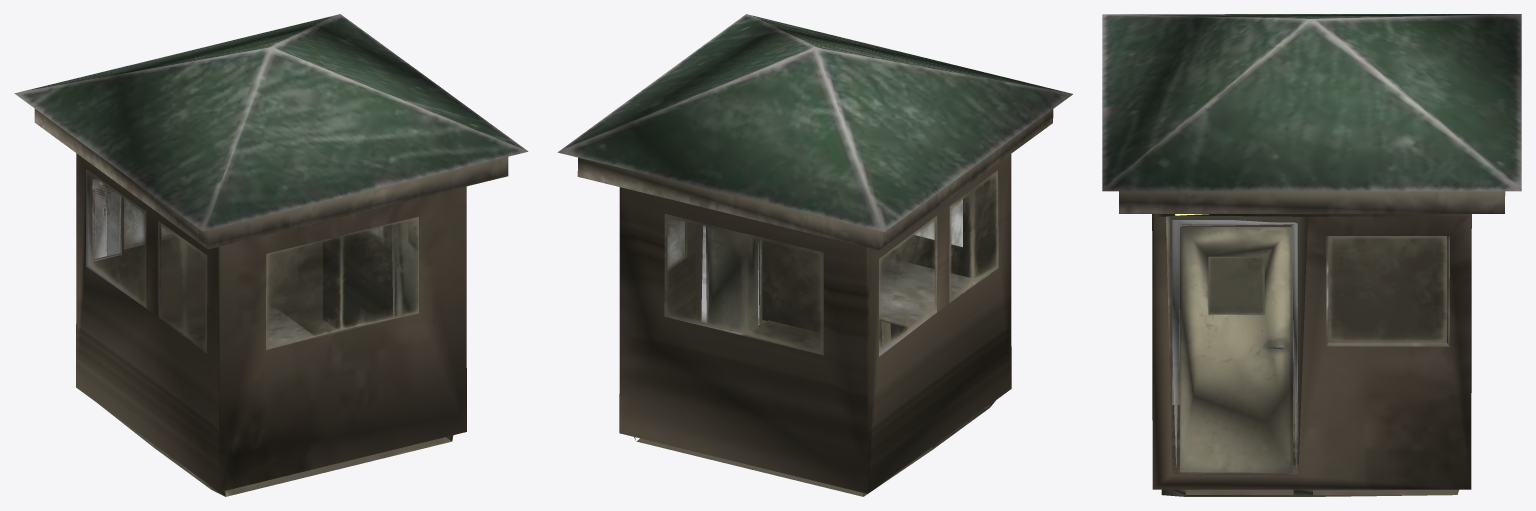
The model's file is guard_booth_lod1.glb.
3 views of the same model, side by side, from view 1: azimuth 30°, elevation 25°; view 2: azimuth 150°, elevation 25°; view 3: azimuth 270°, elevation 25° (orthographic). The views are drawn at different scales.
Parts seen in each view (by area): view 1: guard_booth; view 2: guard_booth; view 3: guard_booth.
Boxes of the visible parts, x1=… form: guard_booth: x1=14, y1=14, x2=528, y2=496; guard_booth: x1=557, y1=14, x2=1072, y2=496; guard_booth: x1=1102, y1=14, x2=1521, y2=496.
Size of the model in its own units: 2.98 by 3.25 by 2.98.
Materials: 10 (10 with a texture image).
